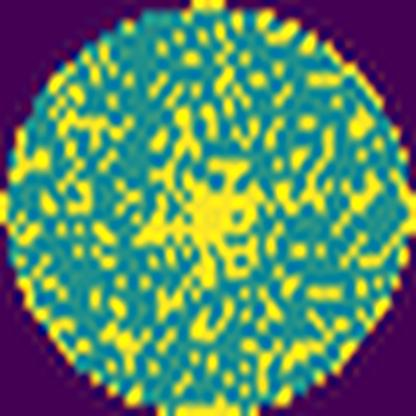Center: (136, 106, 265, 319)
